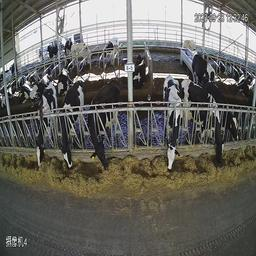cow: (183, 76, 226, 169), (90, 78, 127, 169), (160, 73, 184, 168), (32, 80, 58, 163), (61, 81, 81, 170), (188, 45, 217, 84), (131, 48, 153, 98), (24, 71, 51, 104), (100, 35, 121, 74), (69, 41, 95, 67), (48, 44, 62, 60)
